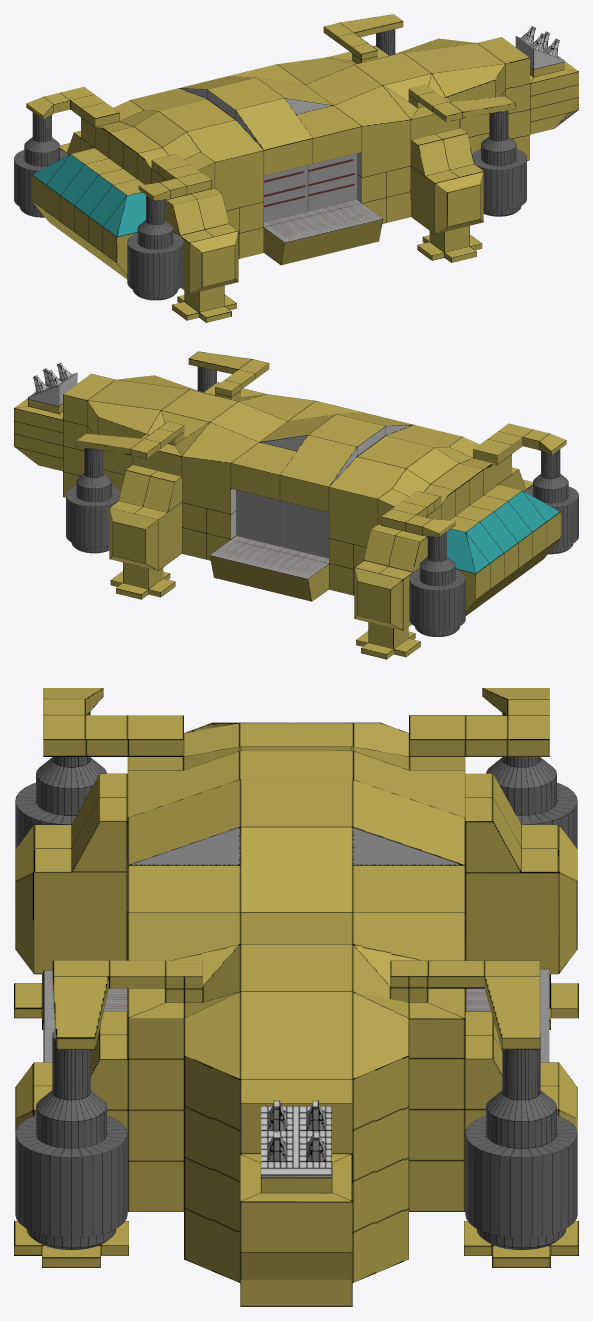
Rendered from drop_shipMK2.obj.
3 renders of one model, top to bottom at view 1: azimuth 30°, elevation 25°; view 2: azimuth 150°, elevation 25°; view 3: azimuth 270°, elevation 25°, orthographic. The views are drawn at different scales.
Parts seen in each view (by area): view 1: main_body.MK2_Cube.015, engine_f_lMK2_Cylinder.002, left_door_Cube.017, right_door_Cube.016; view 2: main_body.MK2_Cube.015, engine_f_lMK2_Cylinder.002, left_door_Cube.017, right_door_Cube.016; view 3: main_body.MK2_Cube.015, engine_f_lMK2_Cylinder.002.
Boxes of the visible parts, left/top/right/bottom form: main_body.MK2_Cube.015: left=26, top=14, right=578, bottom=322; engine_f_lMK2_Cylinder.002: left=14, top=29, right=526, bottom=300; left_door_Cube.017: left=308, top=153, right=356, bottom=211; right_door_Cube.016: left=264, top=165, right=307, bottom=222; main_body.MK2_Cube.015: left=14, top=351, right=566, bottom=659; engine_f_lMK2_Cylinder.002: left=66, top=366, right=578, bottom=636; left_door_Cube.017: left=236, top=490, right=284, bottom=547; right_door_Cube.016: left=285, top=502, right=328, bottom=558; main_body.MK2_Cube.015: left=14, top=688, right=578, bottom=1306; engine_f_lMK2_Cylinder.002: left=15, top=711, right=577, bottom=1249.
Bounding box in the file's own units: 20 × 5.84 × 10.04.
Materials: 4 (4 with a texture image).
